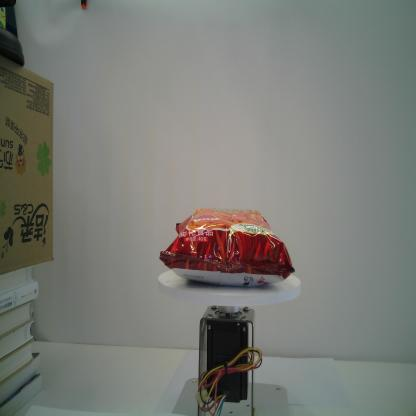Puffed Food: (158, 206, 295, 288)
